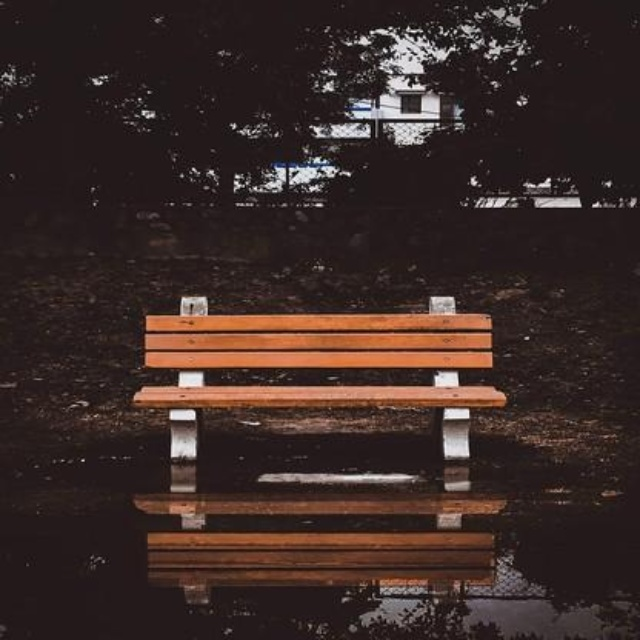obstacle: (109, 285, 525, 480)
